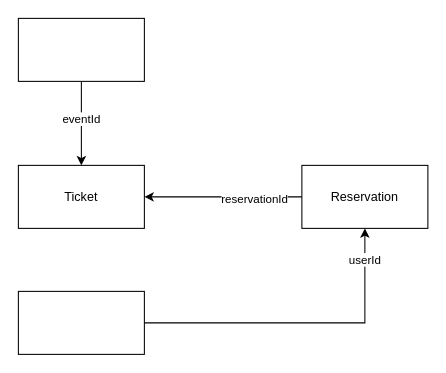
Some shapes in this 446 by 373 pixel diagram are drawn without their labels. The centre of each missing label's shape, as x and y in pixels:
Event: pixel 80 49
User: pixel 80 322
